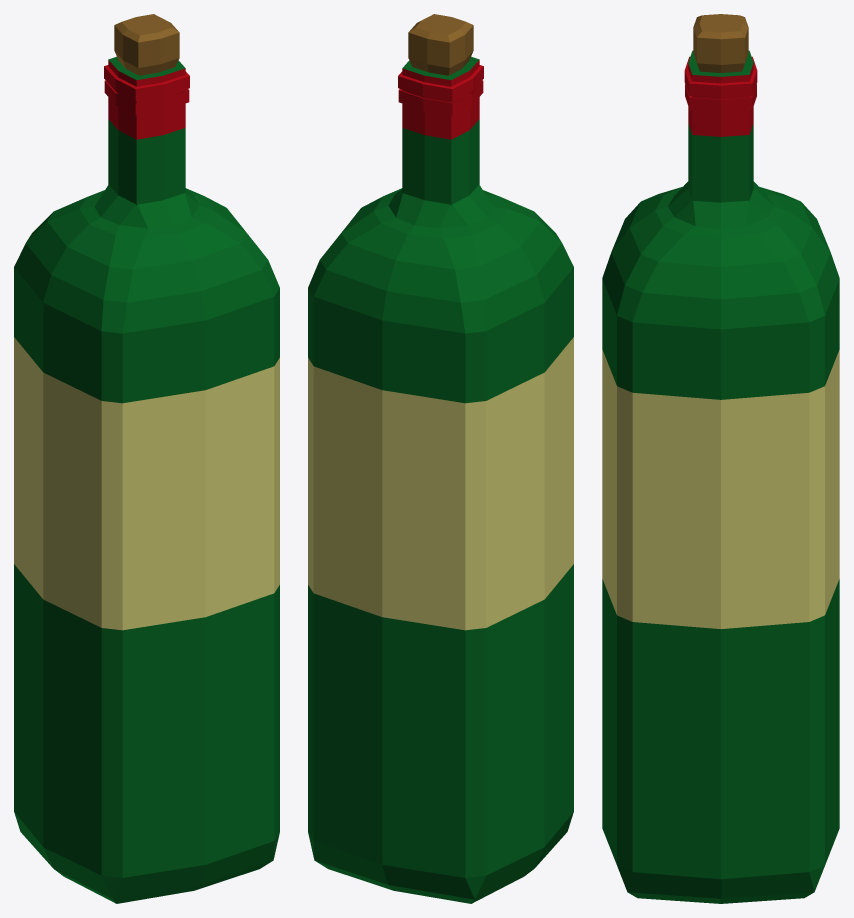
File: bouteille_vin.fbx
The picture shows the model from 3 angles, left to right: view 1: azimuth 30°, elevation 25°; view 2: azimuth 150°, elevation 25°; view 3: azimuth 270°, elevation 25°; orthographic projection.
Parts seen in each view (by area): view 1: Cube; view 2: Cube; view 3: Cube.
Boxes of the visible parts, <box> form: Cube: <box>14,14,279,903</box>; Cube: <box>308,14,573,903</box>; Cube: <box>602,14,839,903</box>.
Bounding box in the file's own units: 26.45 × 101 × 25.97.
